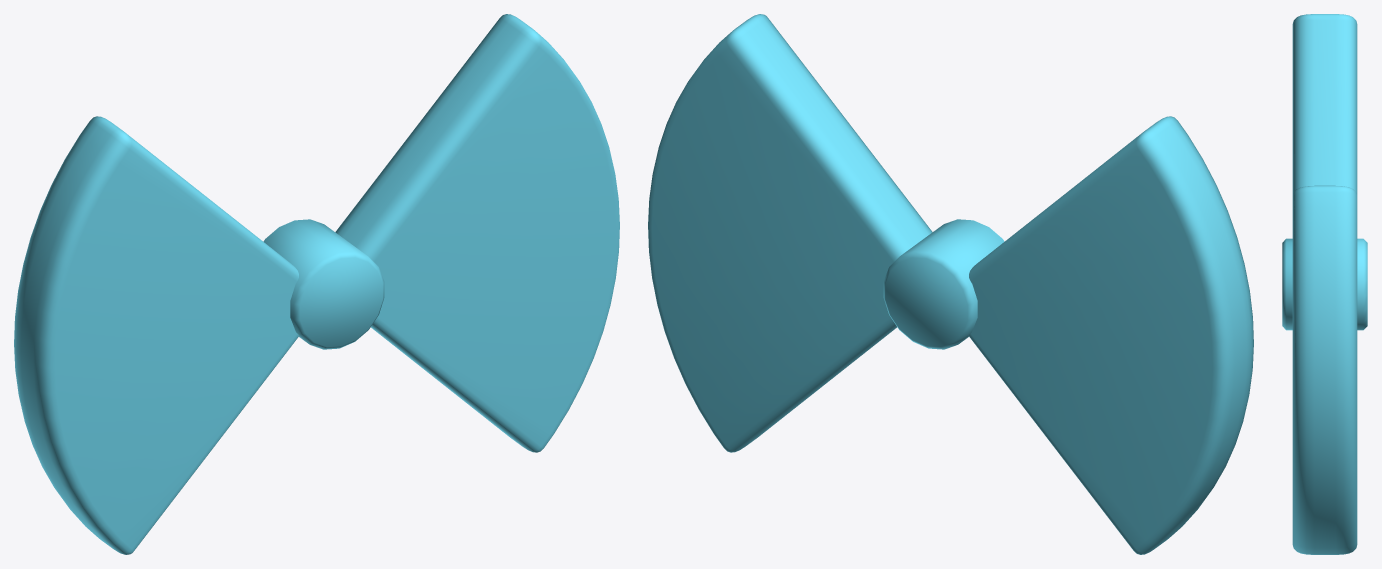
3 views of the same model, side by side, from view 1: azimuth 30°, elevation 25°; view 2: azimuth 150°, elevation 25°; view 3: azimuth 270°, elevation 25° (orthographic). The views are drawn at different scales.
Visible parts, largest first — view 1: d1; view 2: d1; view 3: d1.
Part boxes in pixels (box(x1,y1,x2,y2)): d1: box(14, 14, 619, 554); d1: box(648, 14, 1253, 554); d1: box(1282, 14, 1367, 554).
Size of the model in its own units: 191 by 133 by 27.86.
